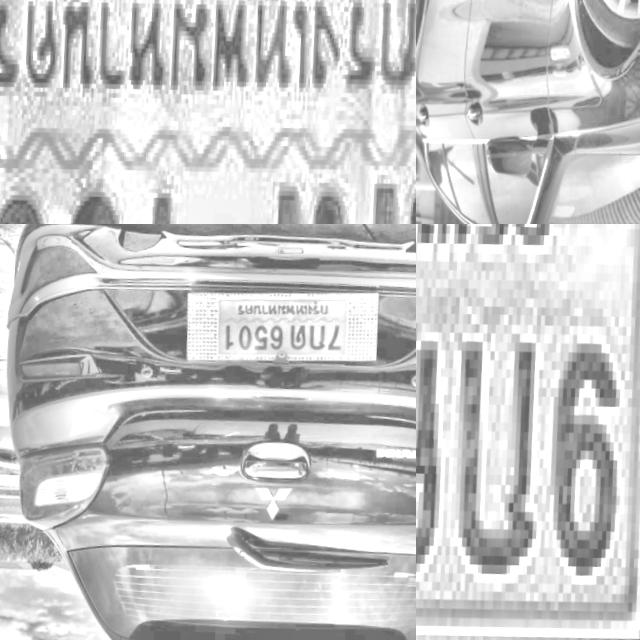license-plate: (0, 0, 416, 224), (416, 224, 640, 640), (210, 288, 350, 369)
